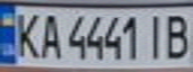1: (121, 11, 142, 61)
4: (63, 11, 87, 60), (84, 11, 106, 61), (103, 12, 124, 61)
A: (36, 10, 63, 60)
B: (160, 11, 193, 60)
I: (142, 11, 169, 61)
K: (9, 8, 42, 60)
